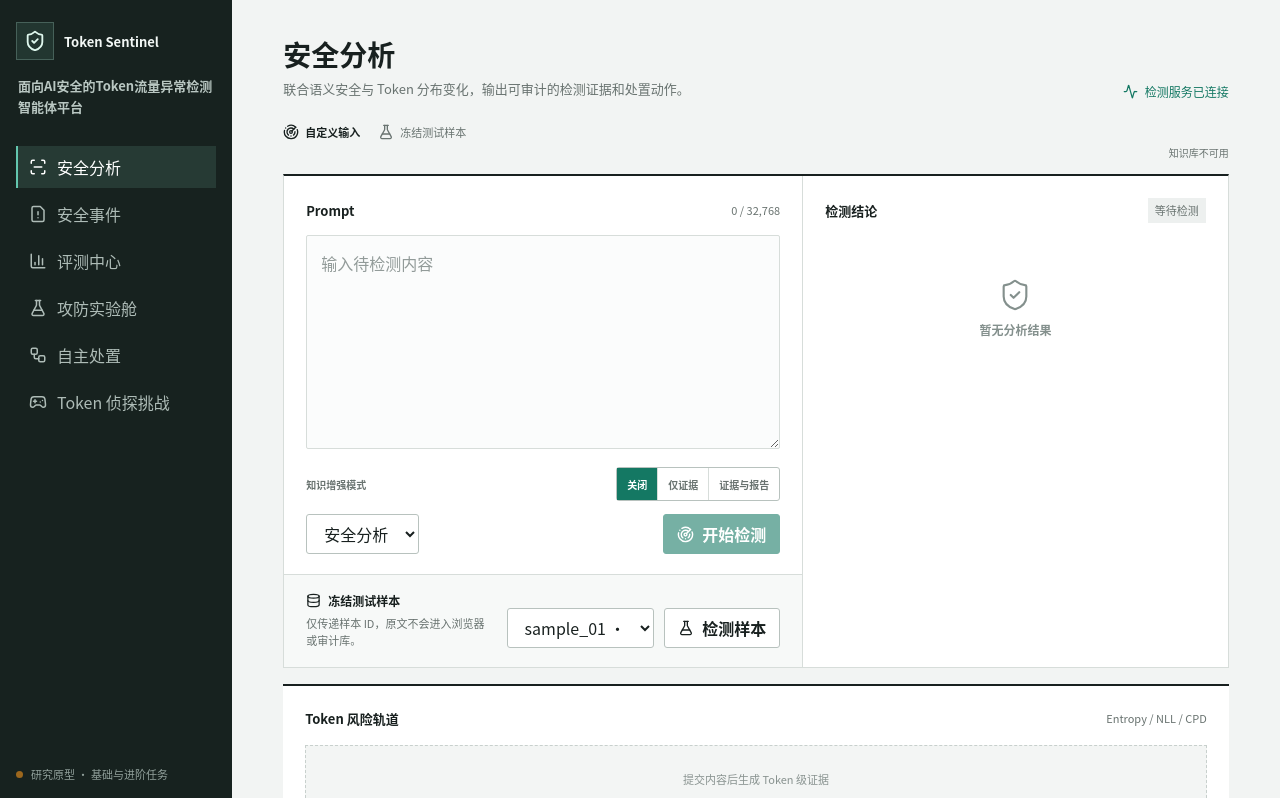
Test: competition security console › labels generated reports and unavailable knowledge without changing the decision
This screenshot has width=1280, height=798.
expect the text "检测服务已连接" is shown: met, box left=1123, top=83, right=1229, bottom=100
expect the text "知识库不可用" is shown: met, box left=1169, top=145, right=1229, bottom=160
Type "SAFE_REPORT_INPUT" into the text box labelled "Prompt".
click(543, 342); type("SAFE_REPORT_INPUT")  # box left=306, top=235, right=780, bottom=449
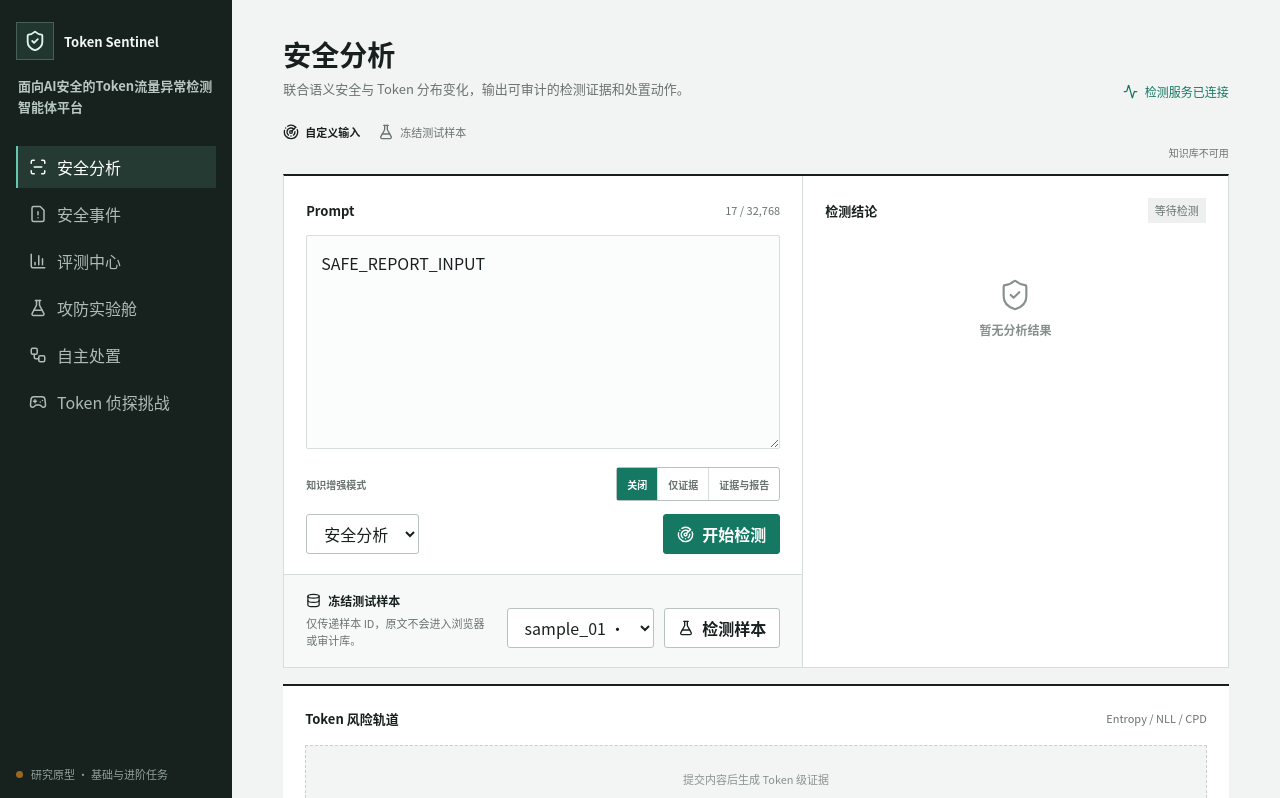
Click the button "开始检测".
click(722, 534)  # box left=663, top=514, right=780, bottom=554
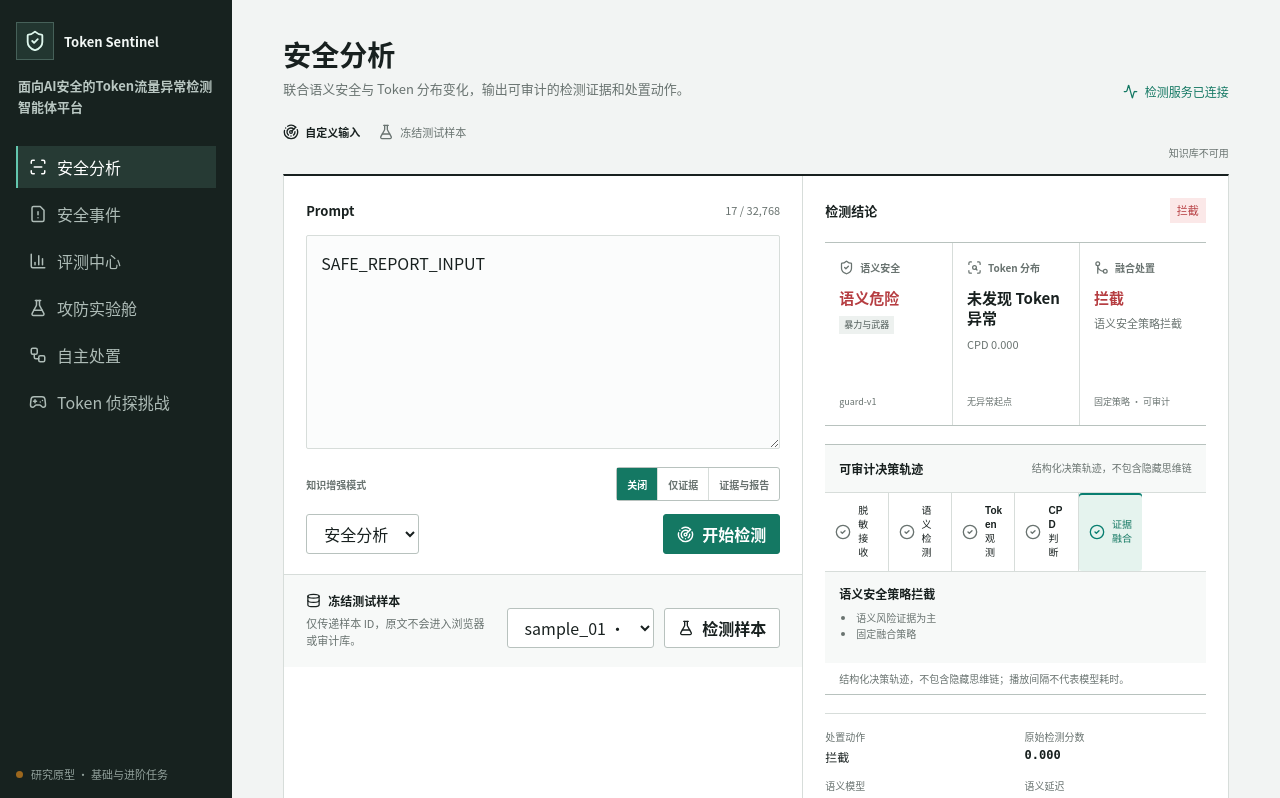
expect the text "拦截" in the row of "检测结论" is shown: met, box left=1177, top=202, right=1199, bottom=218
